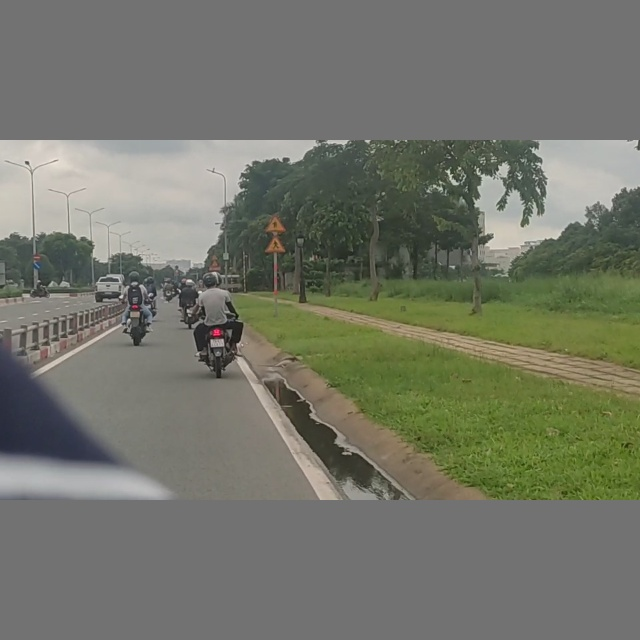P.102: (33, 253, 41, 261)
R.302a: (33, 261, 41, 270)
W.207: (265, 215, 286, 232)
W.224: (265, 236, 286, 253)
